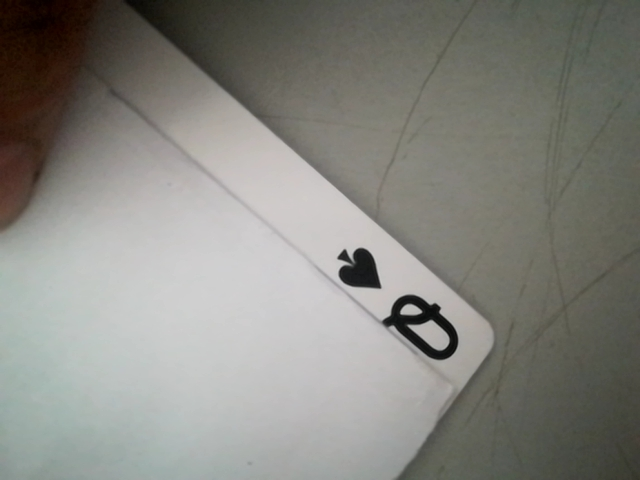ht q: (318, 238, 476, 379)
